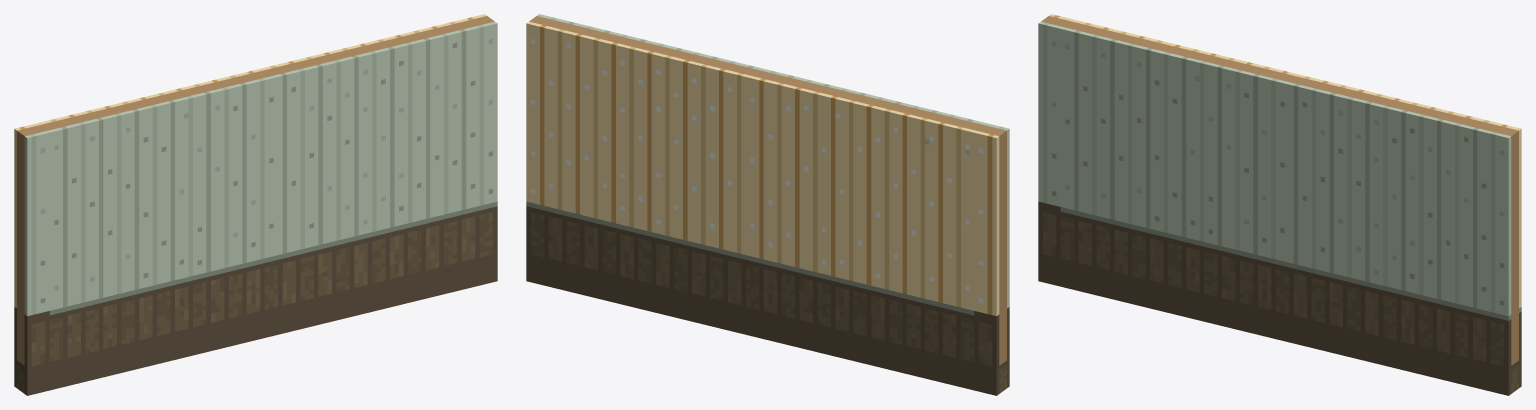
The model's file is furniture_5.obj.
3 renders of one model, left to right at view 1: azimuth 30°, elevation 25°; view 2: azimuth 150°, elevation 25°; view 3: azimuth 330°, elevation 25°, orthographic.
Size of the model in its own units: 2.1 by 1.1 by 0.1.
1 material, 1 textured.
